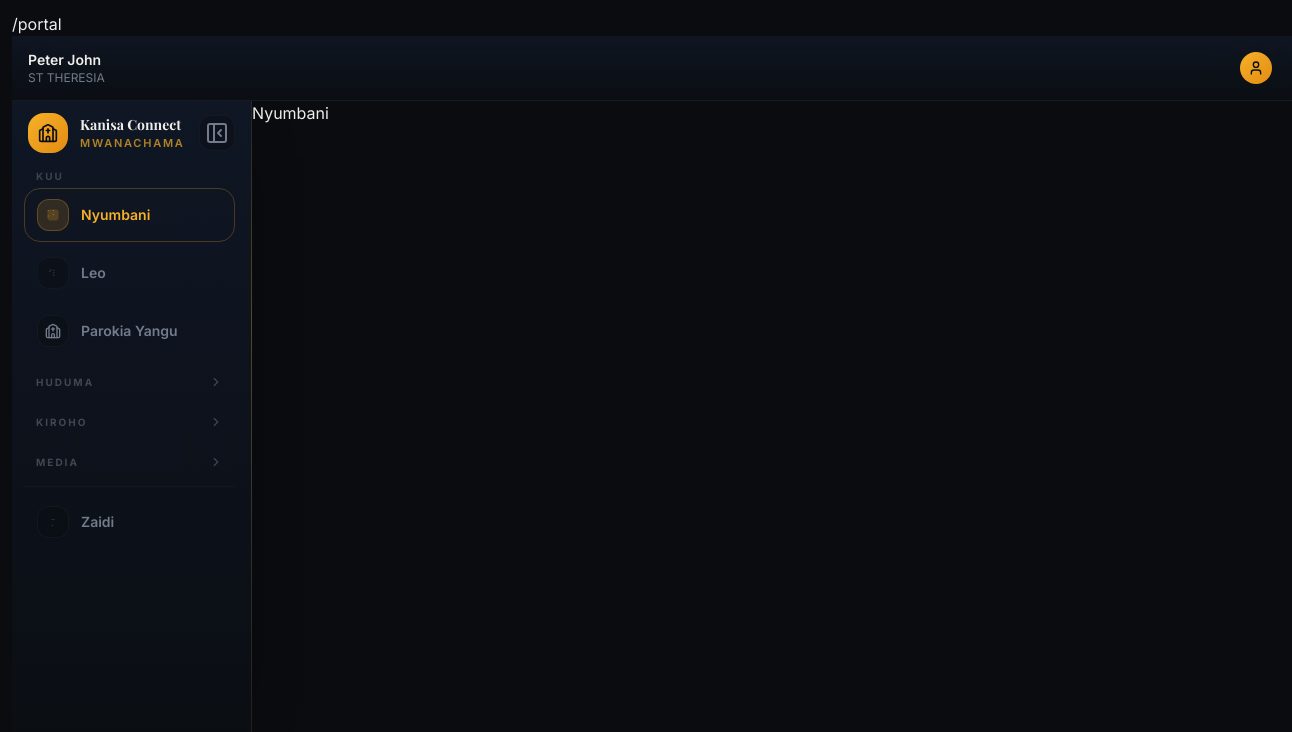
it: multi-church Slice 3 member church switcher › scopes community leader profile actions to the active church
Click the button named "Fungua menyu ya akaunti".
click(1256, 68)  # box [1236,48,1276,88]
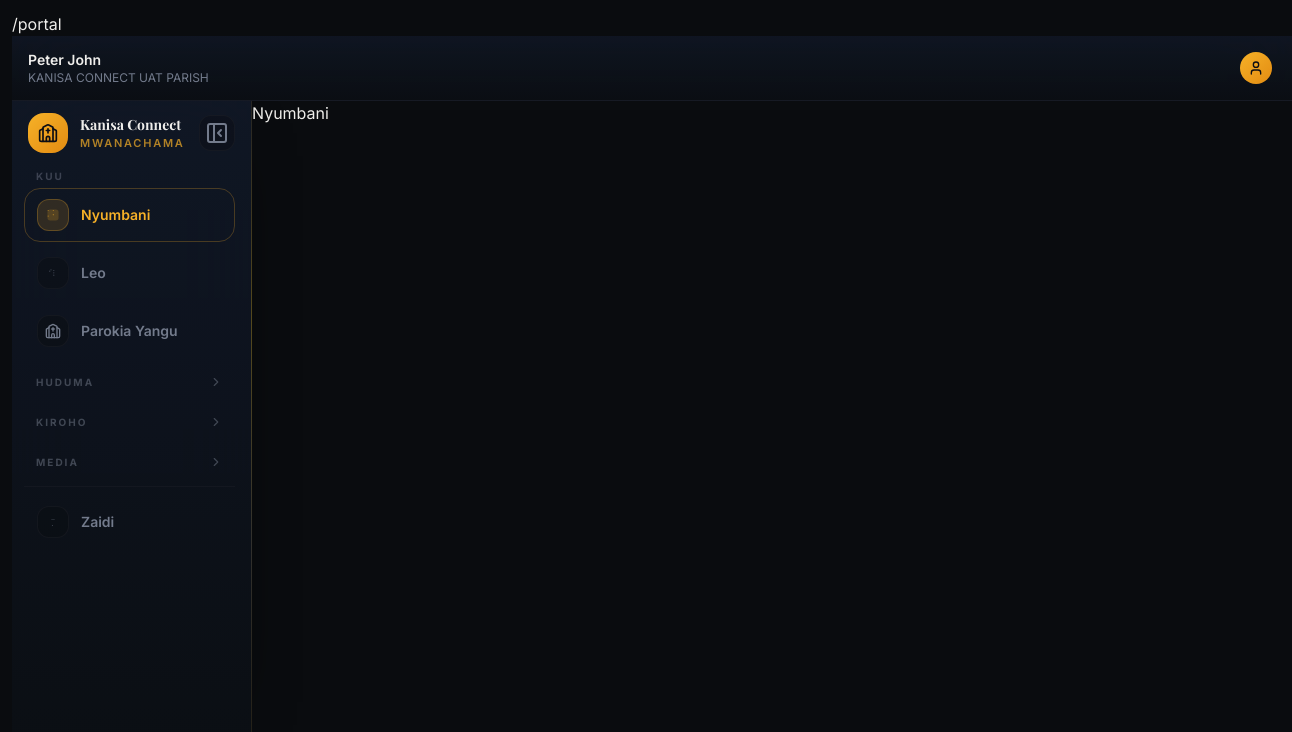
Expected: the text "View as a Community Leader" is not shown
Click the button named "Fungua menyu ya akaunti".
click(1256, 68)  # box [1236,48,1276,88]
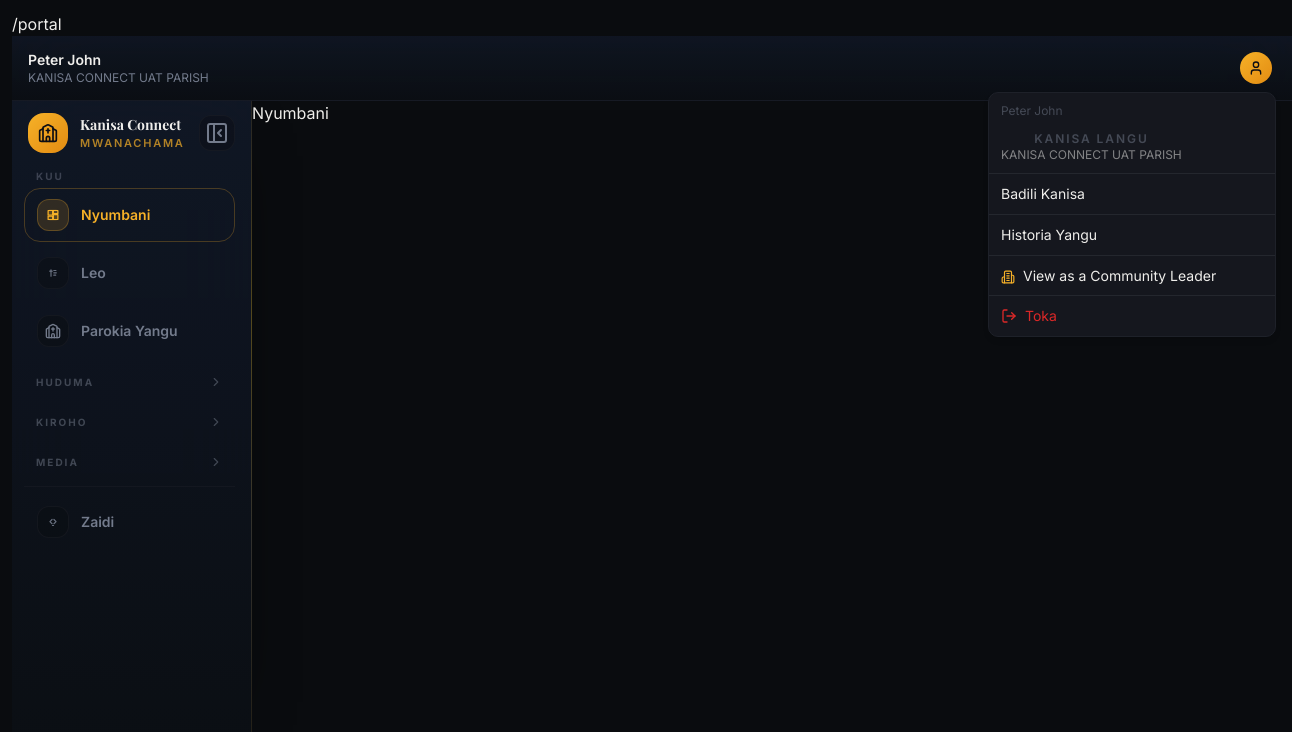
Expected: the text "View as a Community Leader" is shown, [1023,266,1216,285]
Expected: the link to "/community/community-b" is shown, [1001,267,1216,284]
